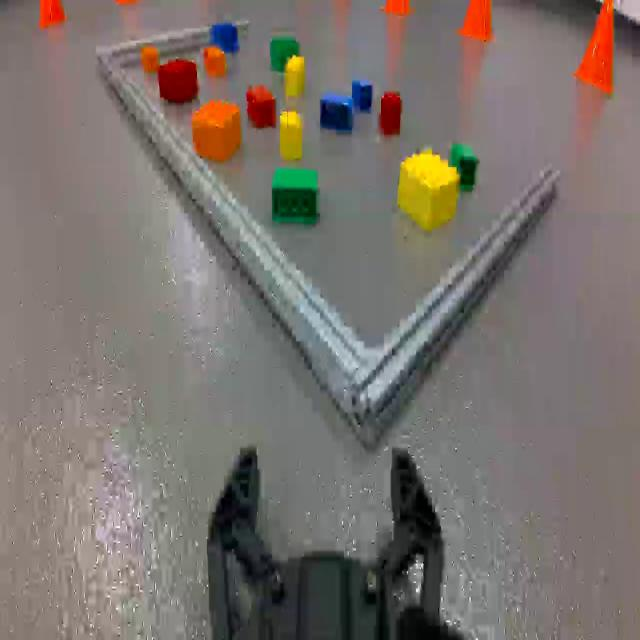block: (399, 149, 454, 228), (282, 112, 306, 160), (284, 53, 307, 97)
blue: (323, 98, 356, 133), (217, 26, 244, 55), (354, 80, 375, 110)
cone: (579, 3, 619, 99), (461, 4, 501, 45)
green: (277, 171, 324, 221), (454, 140, 479, 189), (270, 37, 304, 60)
metal barrier: (96, 31, 558, 447)
orange: (196, 102, 236, 158), (200, 50, 232, 81), (143, 47, 158, 73)
red goal: (162, 63, 199, 101), (250, 88, 277, 127), (384, 98, 402, 130)
